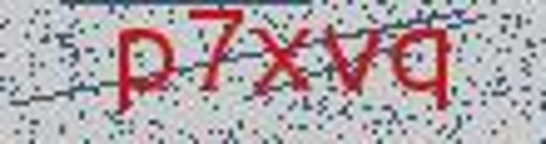7: (182, 7, 249, 99)
p: (108, 19, 178, 125)
q: (388, 18, 465, 128)
v: (320, 16, 383, 104)
x: (248, 17, 313, 102)
